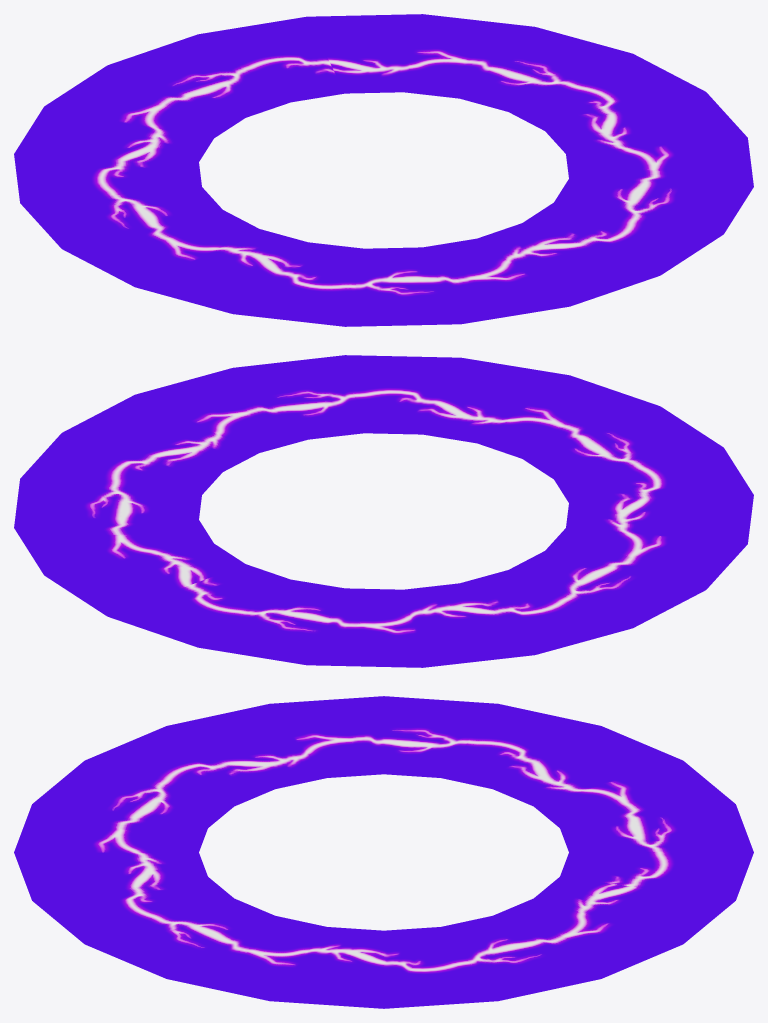
Rendered from circleme.fbx.
3 views of the same model, one above another, from view 1: azimuth 30°, elevation 25°; view 2: azimuth 150°, elevation 25°; view 3: azimuth 270°, elevation 25° (orthographic).
Parts seen in each view (by area): view 1: light; view 2: light; view 3: light.
Part boxes in pixels (left/top/right/bottom): light: left=14, top=14, right=753, bottom=326; light: left=14, top=355, right=753, bottom=667; light: left=14, top=696, right=753, bottom=1008.
Size of the model in its own units: 2 by 0 by 2.
